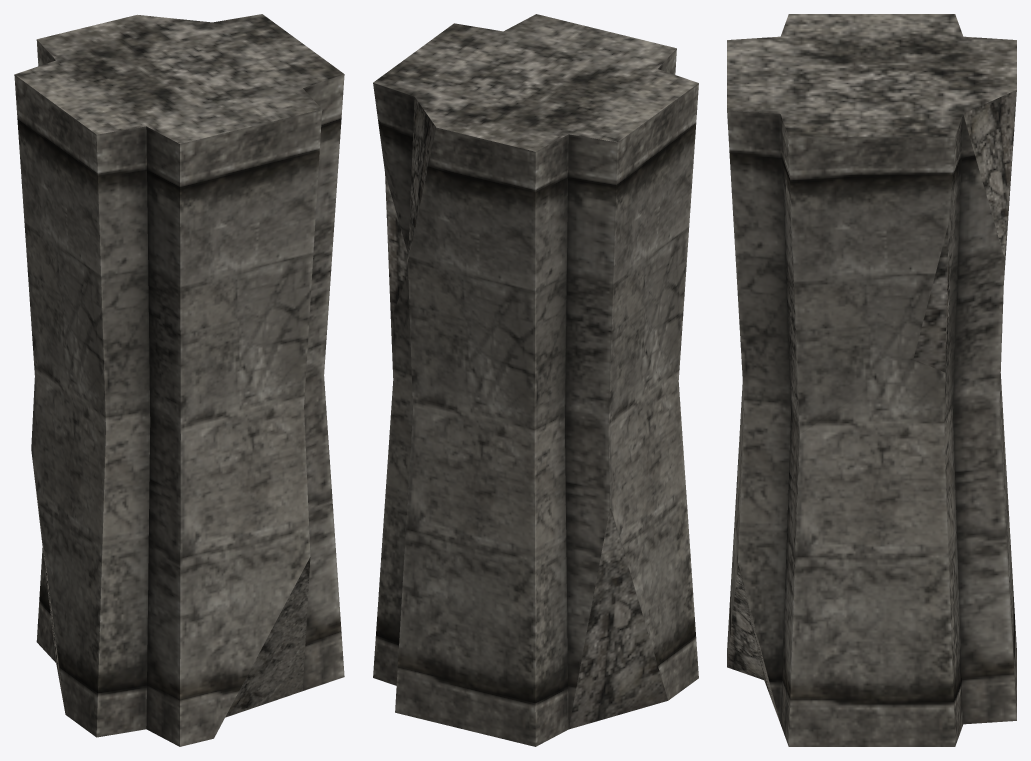
The model's file is Pillar1C_LOD1.fbx.
The picture shows the model from 3 angles, left to right: view 1: azimuth 30°, elevation 25°; view 2: azimuth 150°, elevation 25°; view 3: azimuth 270°, elevation 25°; orthographic projection. The views are drawn at different scales.
Visible parts, largest first — view 1: polySurface78; view 2: polySurface78; view 3: polySurface78.
Part boxes in pixels (left/top/right/bottom): polySurface78: left=14, top=14, right=344, bottom=746; polySurface78: left=373, top=14, right=698, bottom=746; polySurface78: left=727, top=14, right=1016, bottom=746.
Bounding box in the file's own units: 2.33 × 5.41 × 2.33.
